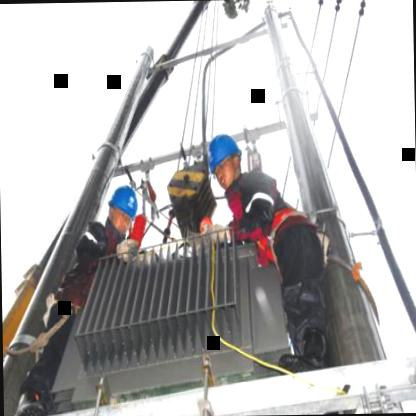helmet: (203, 125, 247, 195), (101, 172, 142, 247)
